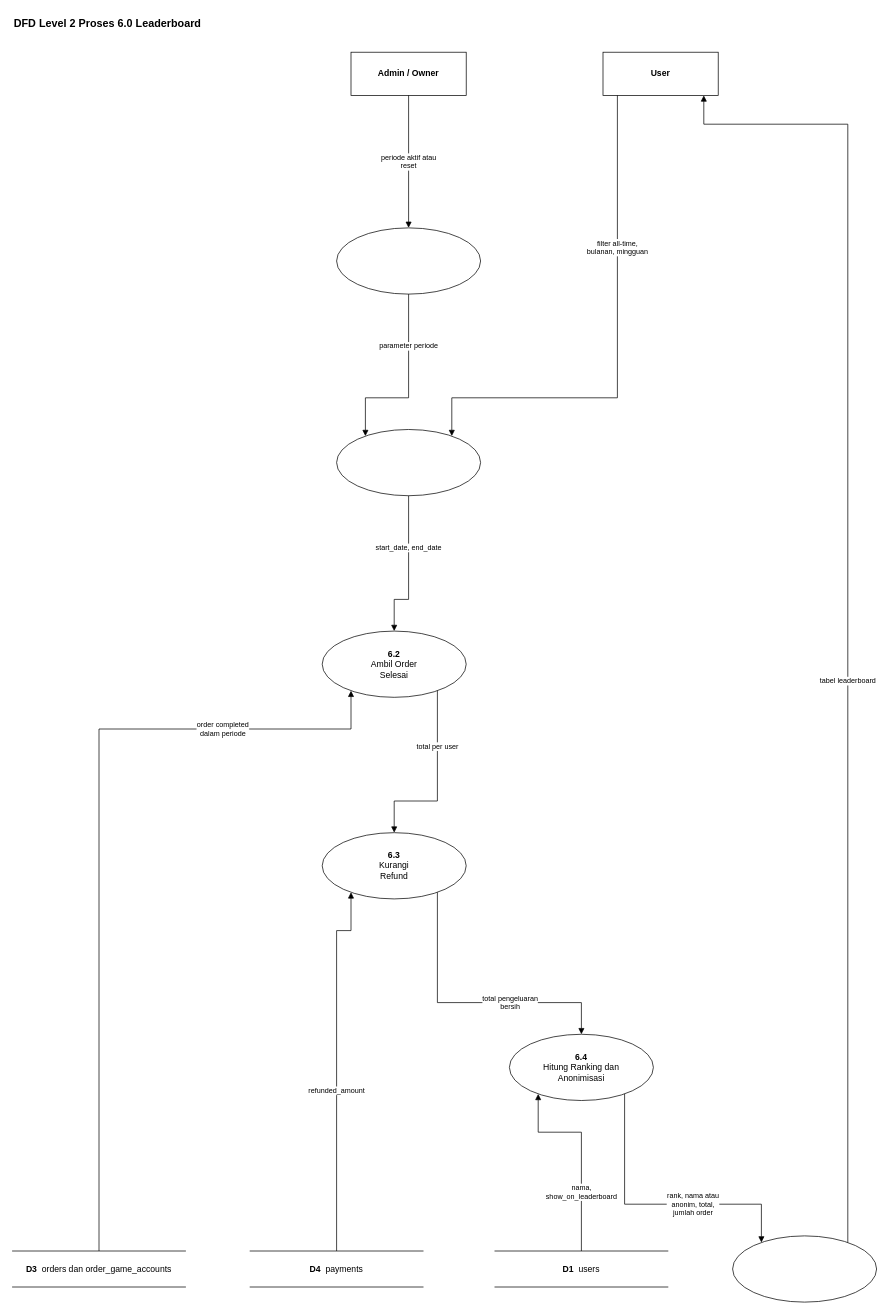
Image size: 889x1315. Some labels were removed from this diagram. Each missing label, with the box of its shape:
6.1 Tentukan Periode: (336, 429, 481, 496)
6.5 Tampilkan Leaderboard: (732, 1235, 877, 1302)
6.6 Atur atau Reset Periode: (336, 227, 481, 294)
